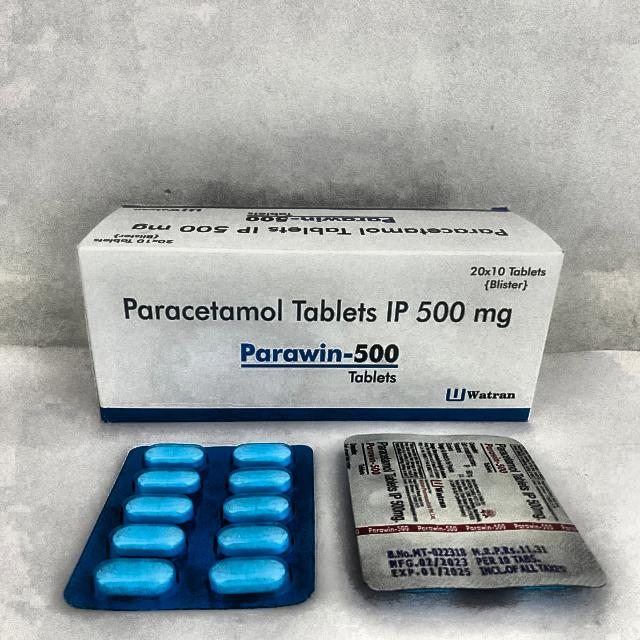Paracetamol: (109, 278, 522, 388)
